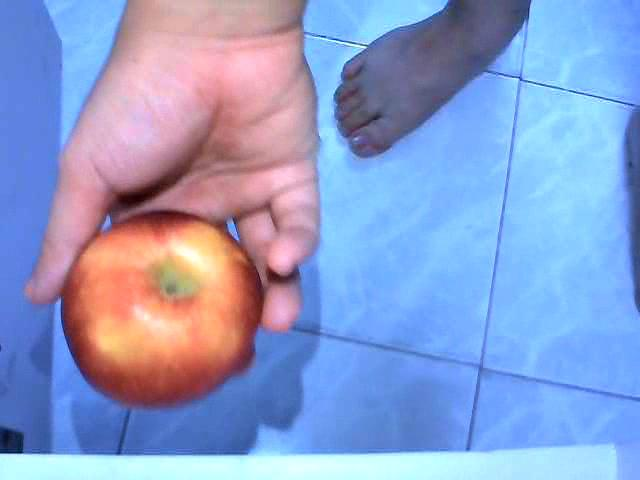apple: (57, 207, 266, 409)
